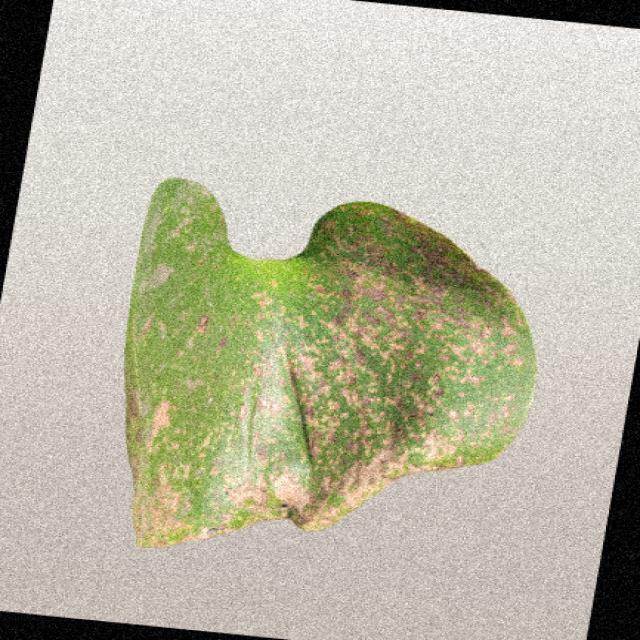daun berpenyakit bercak: (127, 179, 536, 546)
